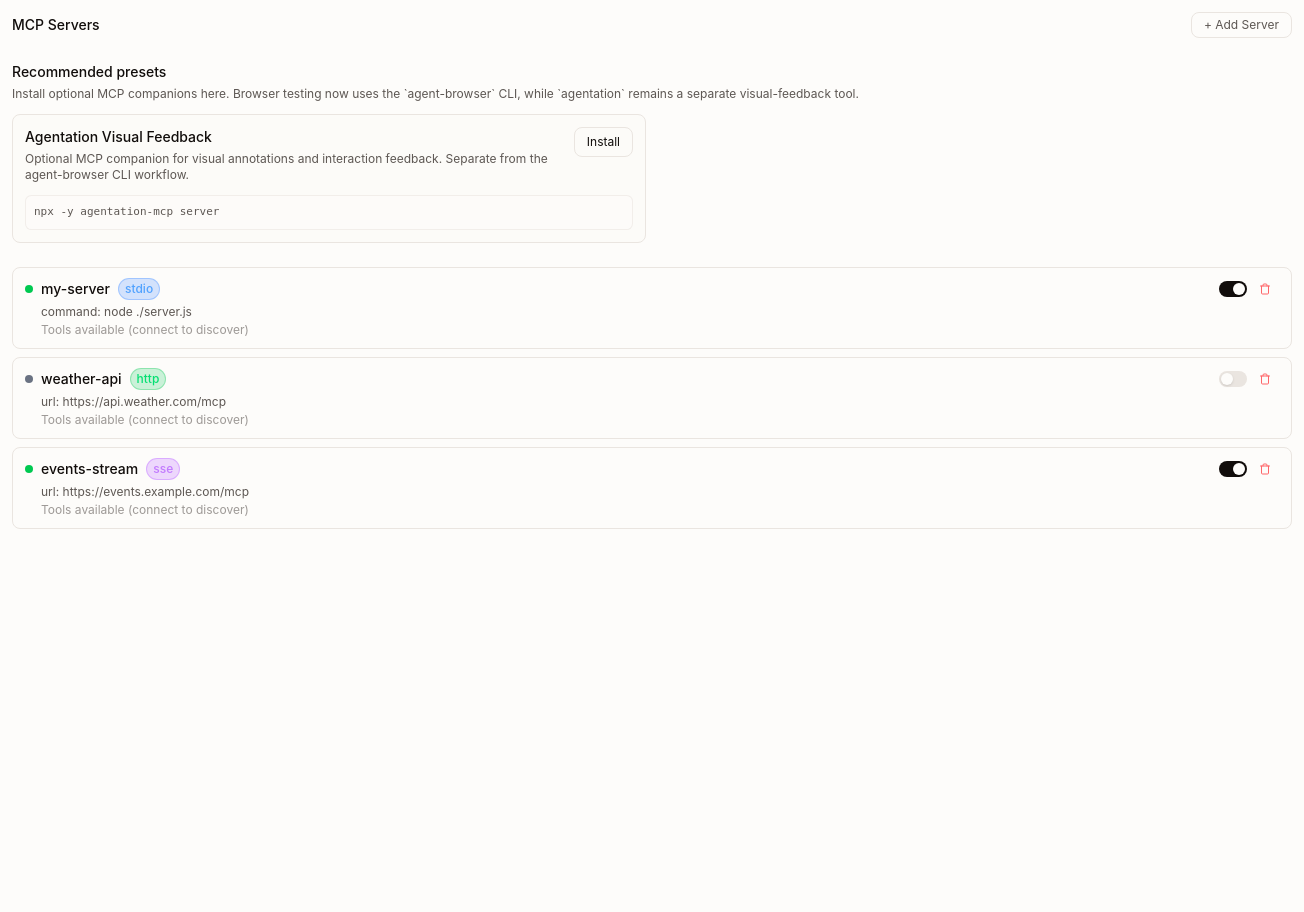
Test: McpPanel › edit expands server card with edit form
Expected: the element with test id "mcp-panel" is shown, 12,12 -> 1292,528
# Click on a server card to edit
Click the element with test id "mcp-server-my-server" at {"x": 652, "y": 308}, box 12,266 -> 1292,348
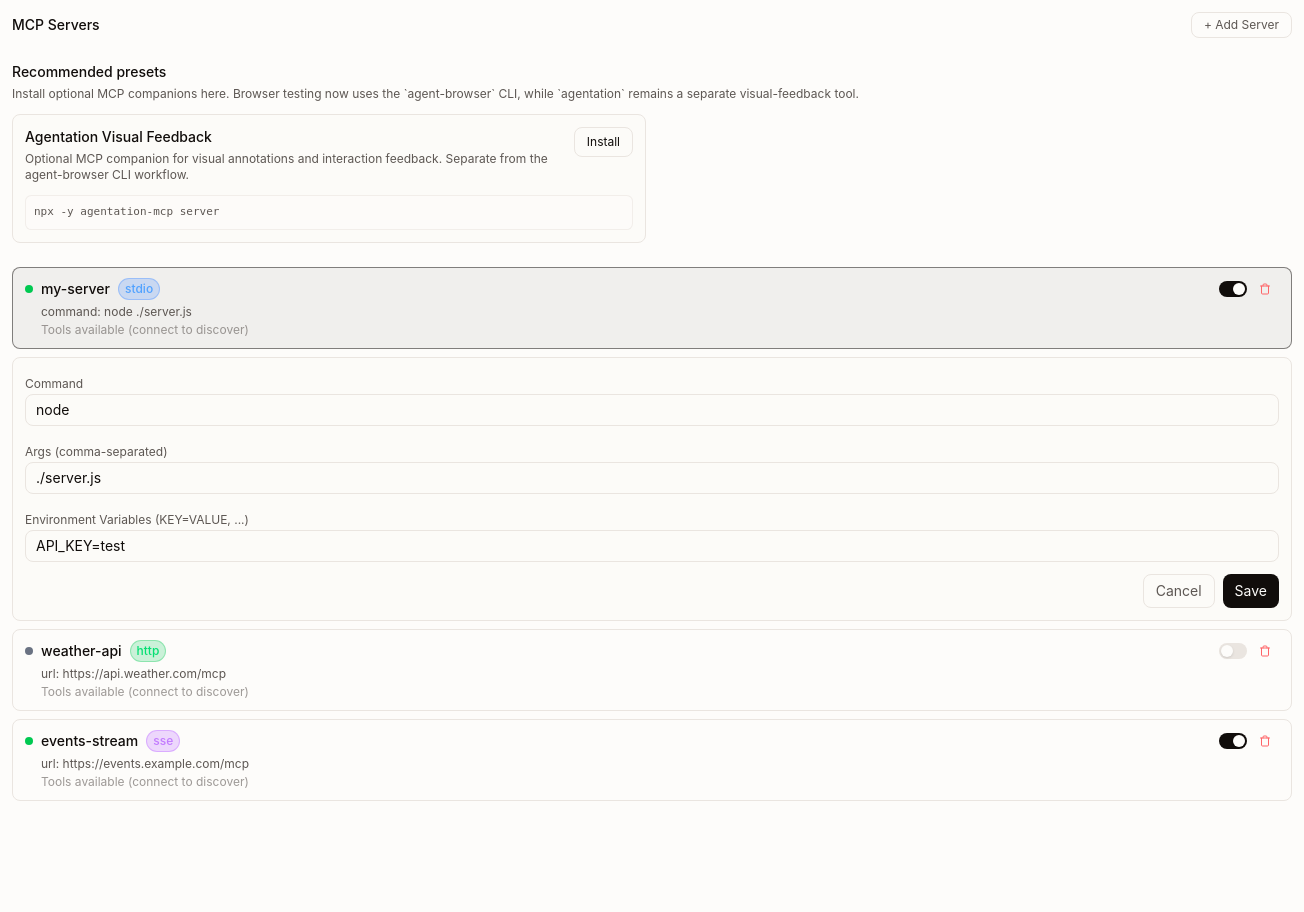
Now the element with test id "mcp-edit-form-my-server" is shown, box 12,356 -> 1292,620
Now the field with test id "mcp-edit-command-input" is shown, box 25,394 -> 1279,426
Now the button with test id "mcp-edit-save-btn" is shown, box 1223,574 -> 1279,608
